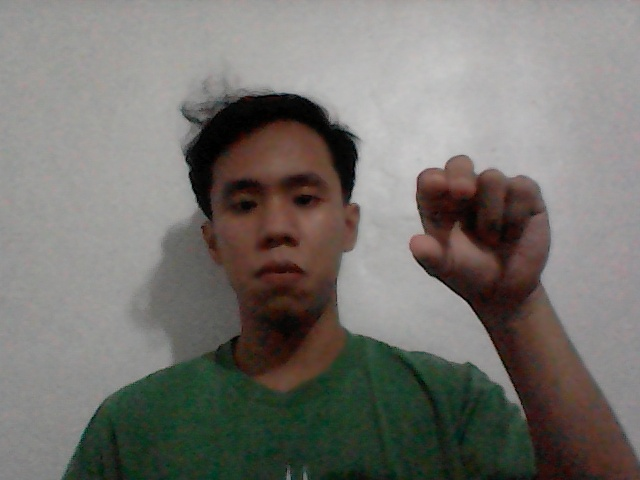No: (388, 136, 575, 311)
